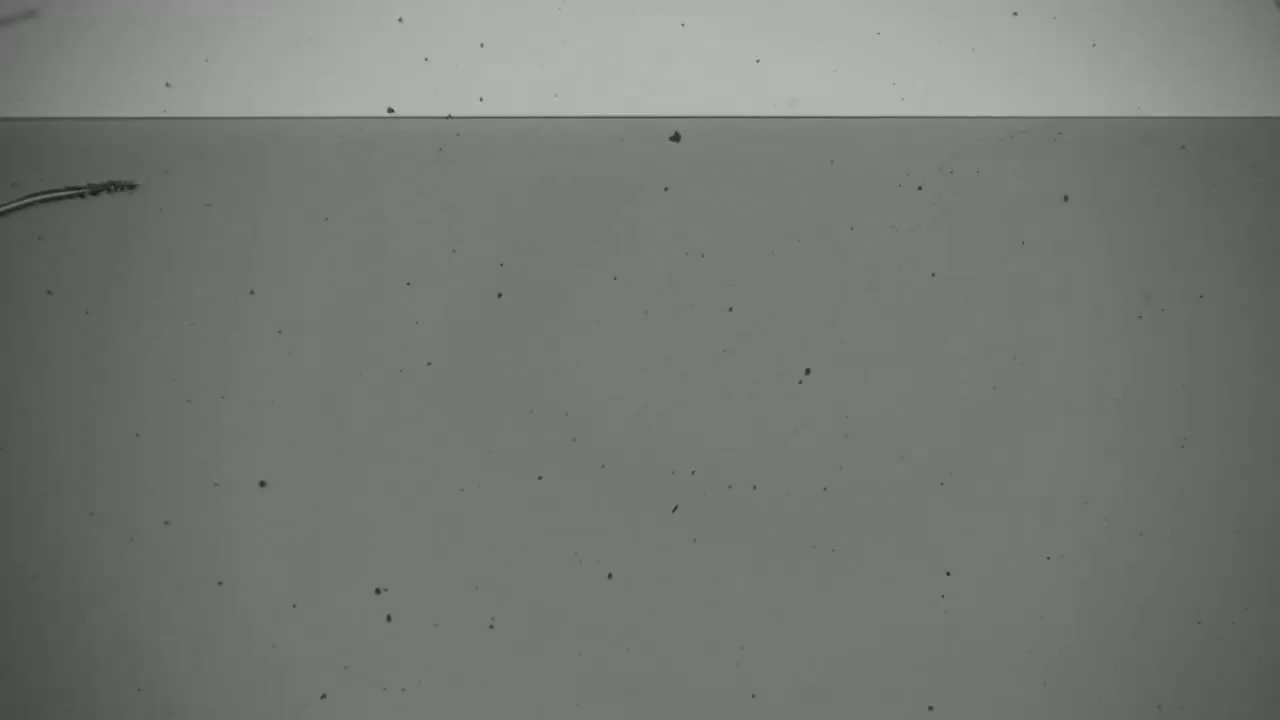scratch: (8, 158, 143, 228)
